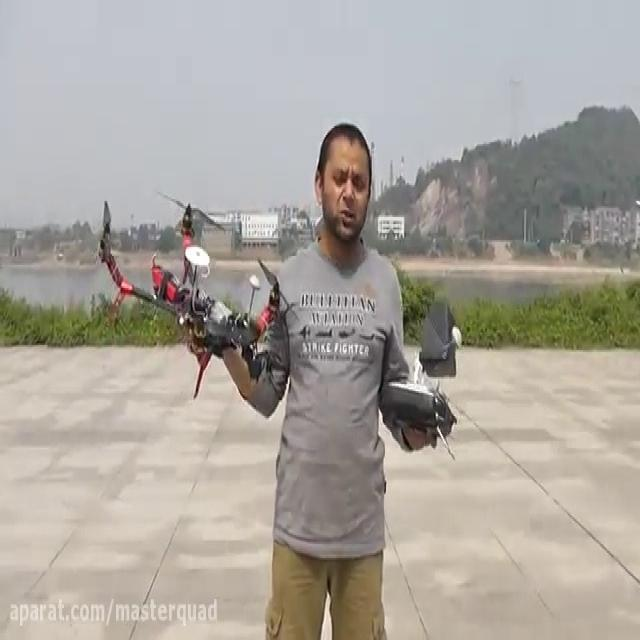drone: (96, 183, 302, 398)
